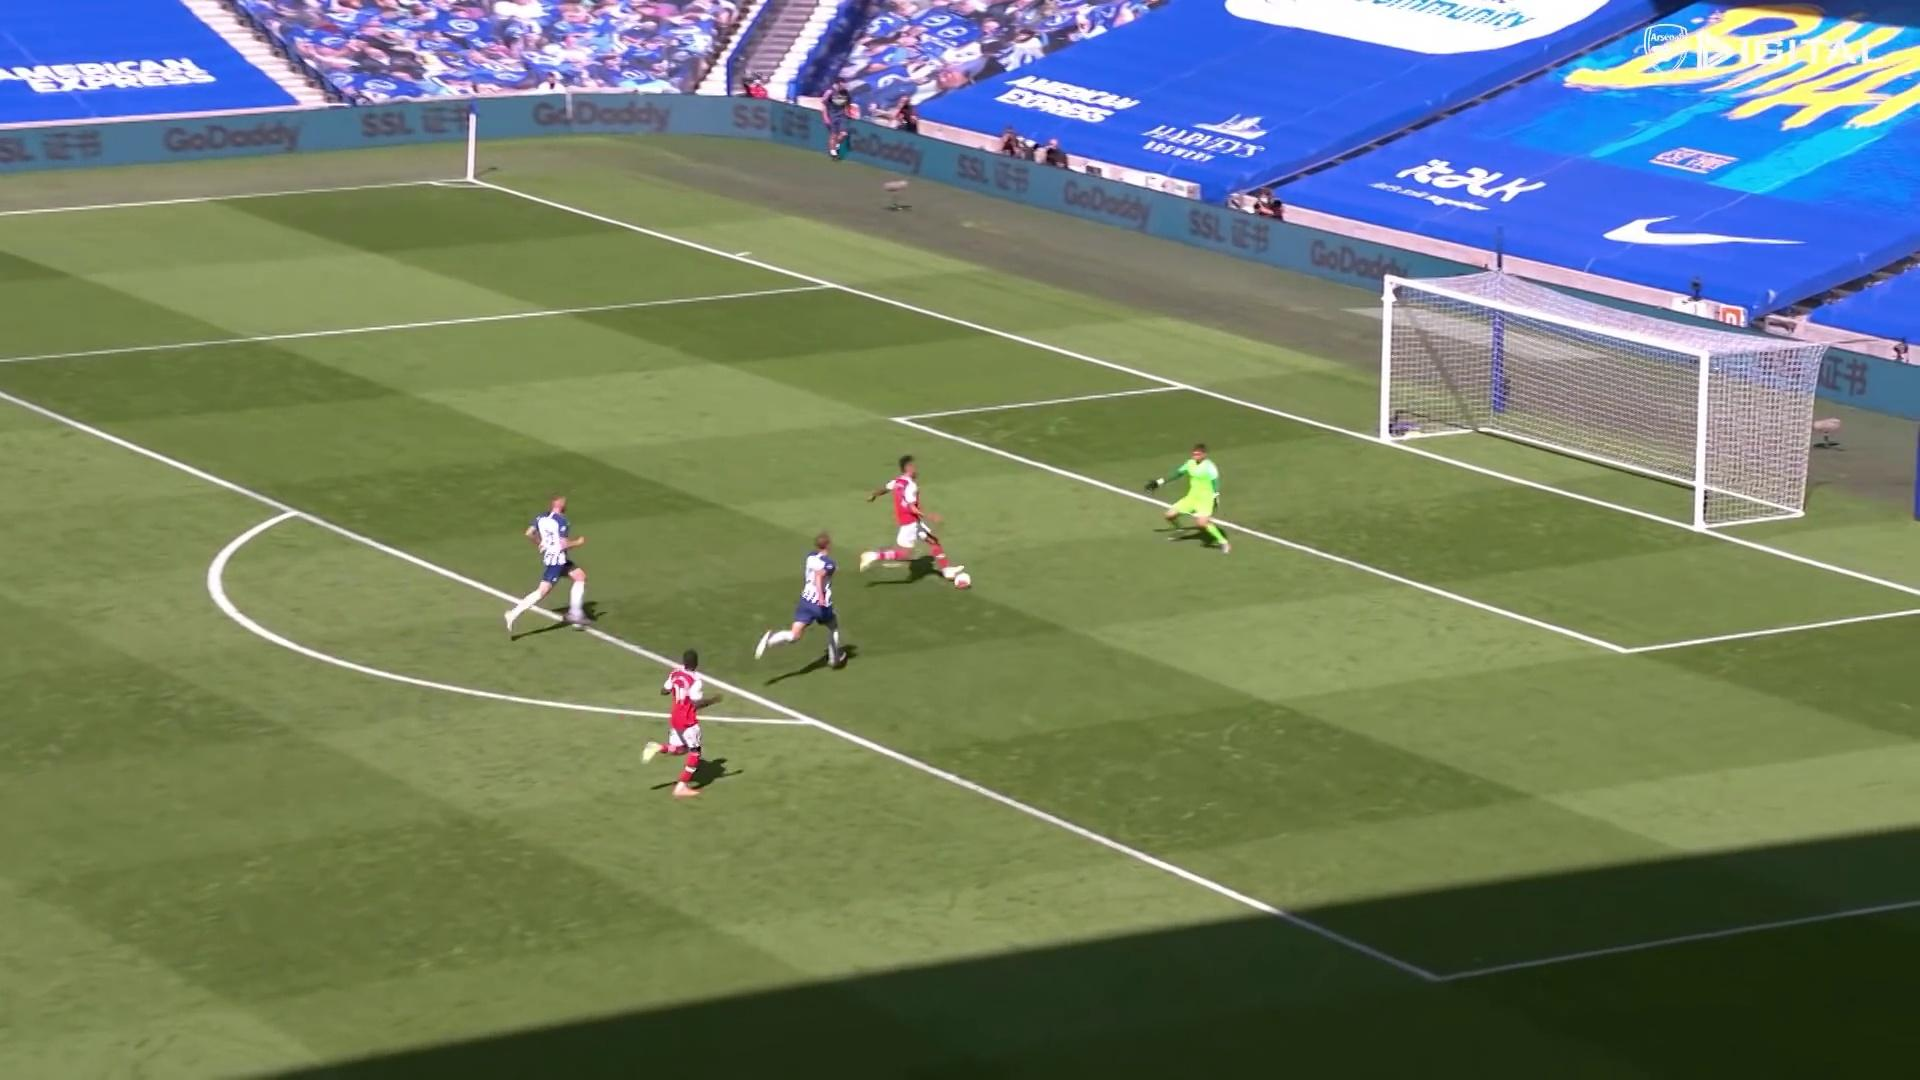ball: (953, 571, 975, 591)
